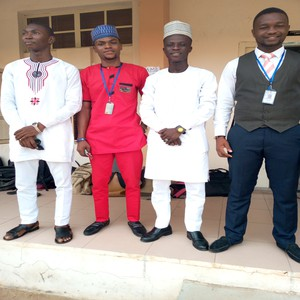Fulokoja_male_student: (228, 10, 295, 260), (2, 22, 75, 243), (146, 21, 215, 251), (82, 25, 145, 241)
